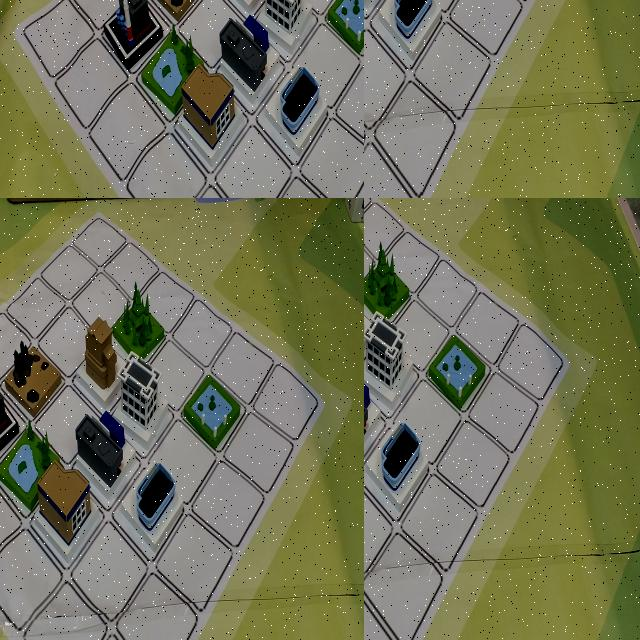bus_stop: (15, 483, 74, 580), (203, 129, 265, 198), (364, 354, 395, 455), (364, 0, 403, 43)
factory: (63, 222, 117, 298), (364, 330, 397, 430), (54, 0, 114, 50), (466, 151, 518, 198)
fish_pool: (426, 321, 489, 420), (309, 0, 362, 81), (139, 576, 199, 640), (511, 150, 566, 198)
forest: (197, 472, 253, 560), (364, 235, 415, 327), (267, 0, 316, 40), (364, 143, 393, 198)
gogo_shop: (369, 417, 429, 520), (364, 17, 395, 105), (348, 110, 364, 198)
research_build: (85, 71, 148, 168), (448, 76, 508, 170), (364, 308, 416, 405), (12, 304, 66, 389)
restaurant: (364, 414, 397, 519), (0, 395, 26, 483), (364, 0, 392, 45)
silicate_rock: (155, 333, 208, 414), (364, 291, 397, 376), (175, 0, 226, 40), (364, 133, 391, 198)
volunteer_center: (106, 433, 169, 524), (213, 0, 262, 65), (364, 272, 391, 374), (423, 147, 473, 198)
wet_land: (364, 372, 397, 478), (372, 0, 431, 48), (0, 451, 28, 542)
